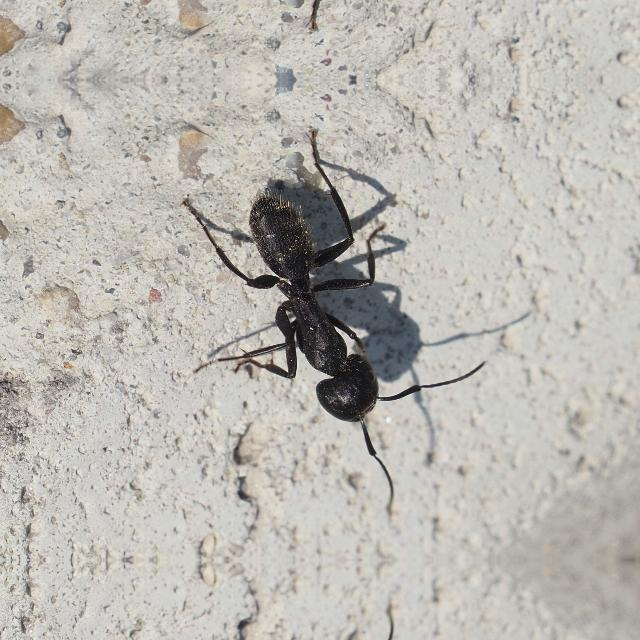Camponotus: (190, 150, 434, 454)
